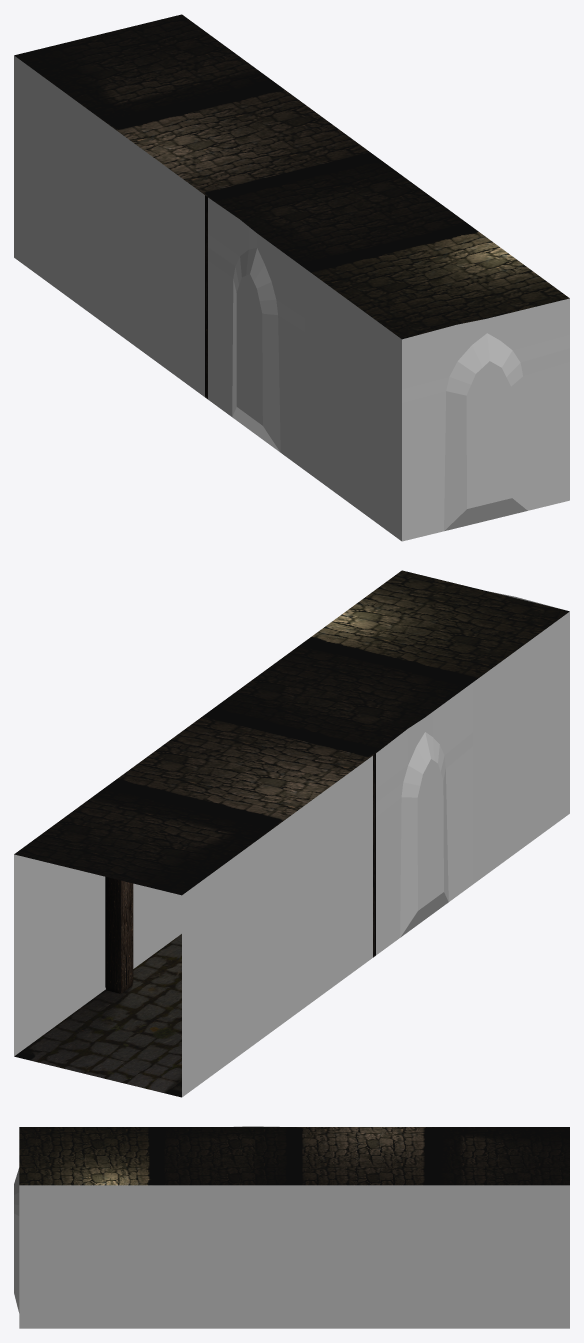
Rendered from corridor01.fbx.
The picture shows the model from 3 angles, top to bottom: view 1: azimuth 30°, elevation 25°; view 2: azimuth 150°, elevation 25°; view 3: azimuth 270°, elevation 25°; orthographic projection. The views are drawn at different scales.
Visible parts, largest first — view 1: castle_wall01, castle_ceilin01; view 2: castle_wall01, castle_ceilin01, castle_floor01, castle_beam01; view 3: castle_wall01, castle_ceilin01.
Boxes of the visible parts, <box> form: castle_wall01: <box>14,55,569,541</box>; castle_ceilin01: <box>14,14,569,339</box>; castle_wall01: <box>14,591,569,1097</box>; castle_ceilin01: <box>14,570,569,895</box>; castle_floor01: <box>14,934,375,1097</box>; castle_beam01: <box>105,753,375,993</box>; castle_wall01: <box>14,1126,569,1328</box>; castle_ceilin01: <box>19,1127,569,1185</box>.
Bounding box in the file's own units: 208 × 231 × 808.
